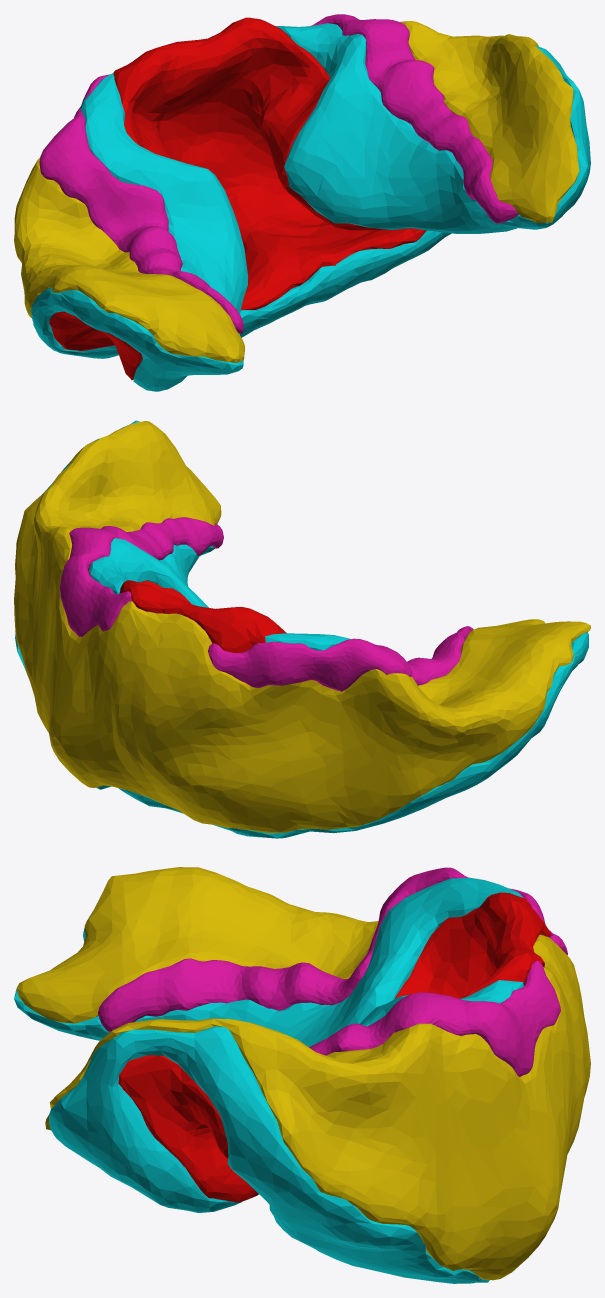
Rendered from objs.gltf.
3 renders of one model, top to bottom at view 1: azimuth 30°, elevation 25°; view 2: azimuth 150°, elevation 25°; view 3: azimuth 270°, elevation 25°, orthographic. The views are drawn at different scales.
Visible parts, largest first — view 1: line_20190402_E2_spl_5000, line_20190402_E2_myo_5000, line_20190402_E2_som_5000, line_20190402_E2_pro_5000; view 2: line_20190402_E2_som_5000, line_20190402_E2_pro_5000, line_20190402_E2_spl_5000, line_20190402_E2_myo_5000; view 3: line_20190402_E2_som_5000, line_20190402_E2_spl_5000, line_20190402_E2_pro_5000, line_20190402_E2_myo_5000.
Boxes of the visible parts, bbox=[...] form: line_20190402_E2_spl_5000: bbox=[31, 23, 590, 391]; line_20190402_E2_myo_5000: bbox=[49, 17, 426, 379]; line_20190402_E2_som_5000: bbox=[14, 21, 579, 362]; line_20190402_E2_pro_5000: bbox=[39, 14, 518, 334]; line_20190402_E2_som_5000: bbox=[14, 421, 590, 833]; line_20190402_E2_pro_5000: bbox=[60, 517, 473, 691]; line_20190402_E2_spl_5000: bbox=[15, 420, 588, 838]; line_20190402_E2_myo_5000: bbox=[88, 569, 286, 652]; line_20190402_E2_som_5000: bbox=[16, 867, 590, 1280]; line_20190402_E2_spl_5000: bbox=[14, 877, 523, 1283]; line_20190402_E2_pro_5000: bbox=[98, 867, 567, 1076]; line_20190402_E2_myo_5000: bbox=[118, 892, 551, 1202].
Size of the model in its own units: 1.39 by 0.6988 by 1.03.
